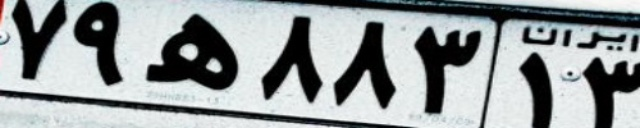1: (517, 50, 554, 127)
3: (413, 25, 479, 114), (582, 56, 636, 127)
7: (10, 0, 68, 82)
8: (332, 19, 397, 106), (259, 16, 321, 102)
9: (73, 0, 123, 84)
he: (145, 12, 241, 91)
